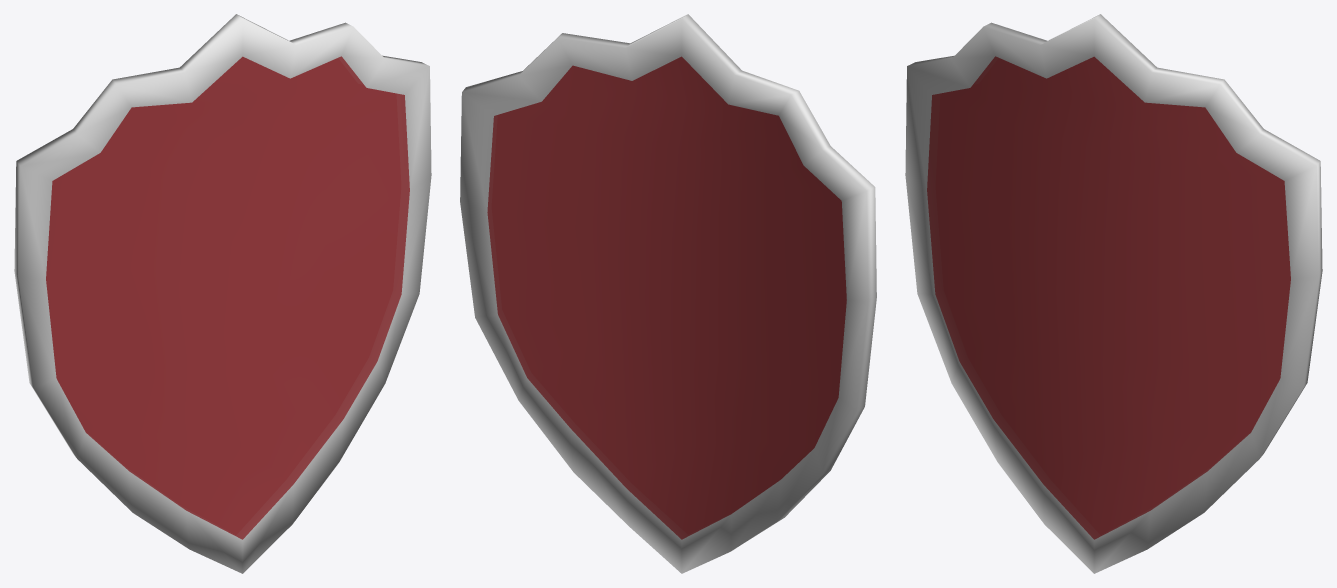
File: shield.fbx
3 views of the same model, side by side, from view 1: azimuth 30°, elevation 25°; view 2: azimuth 150°, elevation 25°; view 3: azimuth 330°, elevation 25° (orthographic).
Parts seen in each view (by area): view 1: shield; view 2: shield; view 3: shield.
Part boxes in pixels (bbox=[...]): shield: bbox=[14, 14, 431, 573]; shield: bbox=[460, 14, 876, 573]; shield: bbox=[905, 14, 1322, 573].
Bounding box in the file's own units: 185 × 238 × 18.68.
